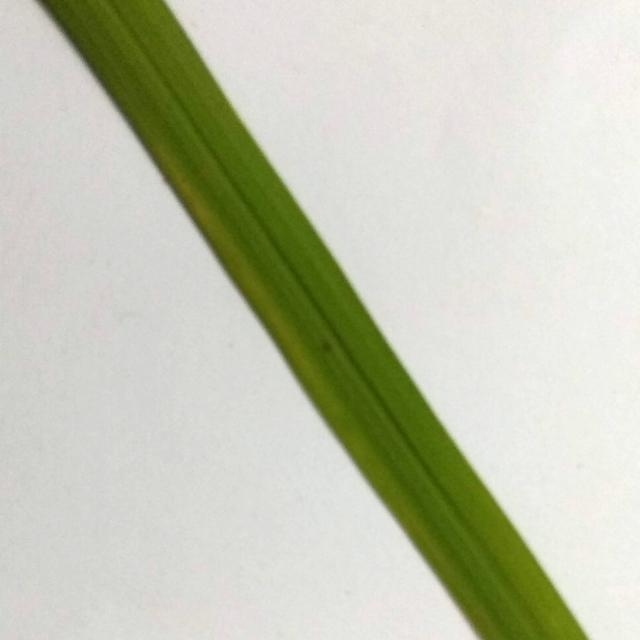Rice_Healthy: (41, 0, 588, 640)
